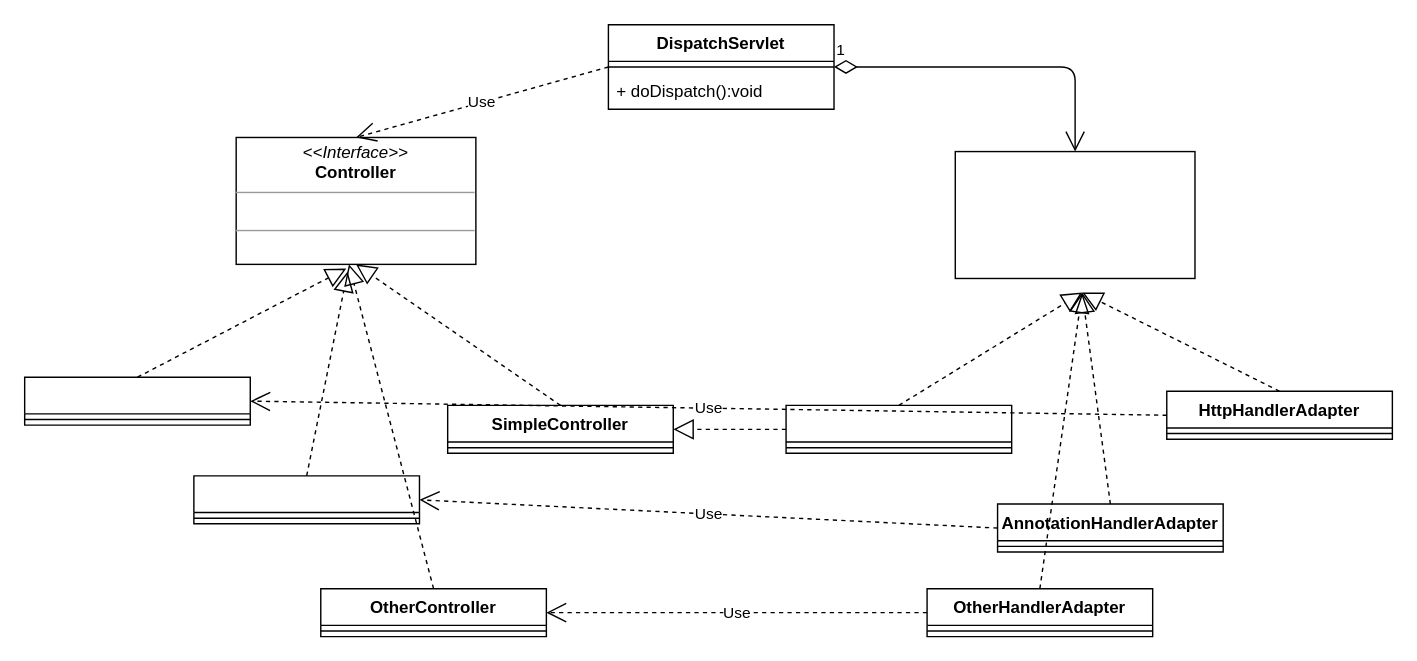
The diagram is 1417 pixels wide and 661 high, and some of its shapes have lost their labels. Here are the shapes that lost their labels. From the top down, the centre of each, then its label:
point (1074, 214): <<Interface>> HandlerAdapter
point (136, 400): HttpController
point (898, 428): SimpleHandlerAdapter
point (305, 499): AnnotationController
